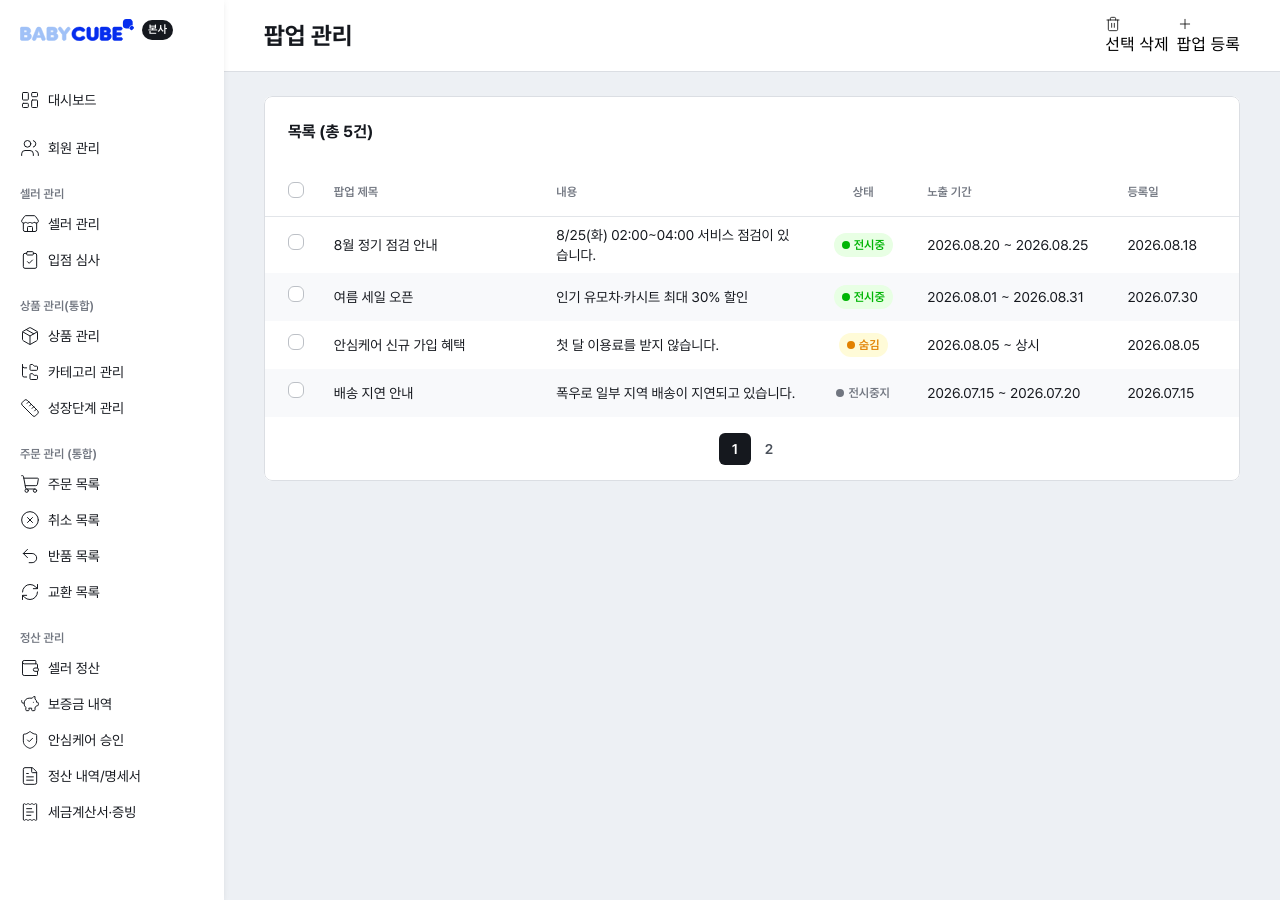
Test case: PopupListPage › 행 선택·선택 삭제 › 전체 선택은 현재 페이지의 행만 고른다
Click the checkbox named "전체 선택": x=296, y=190 top-left (288, 182), bottom-right (304, 198)
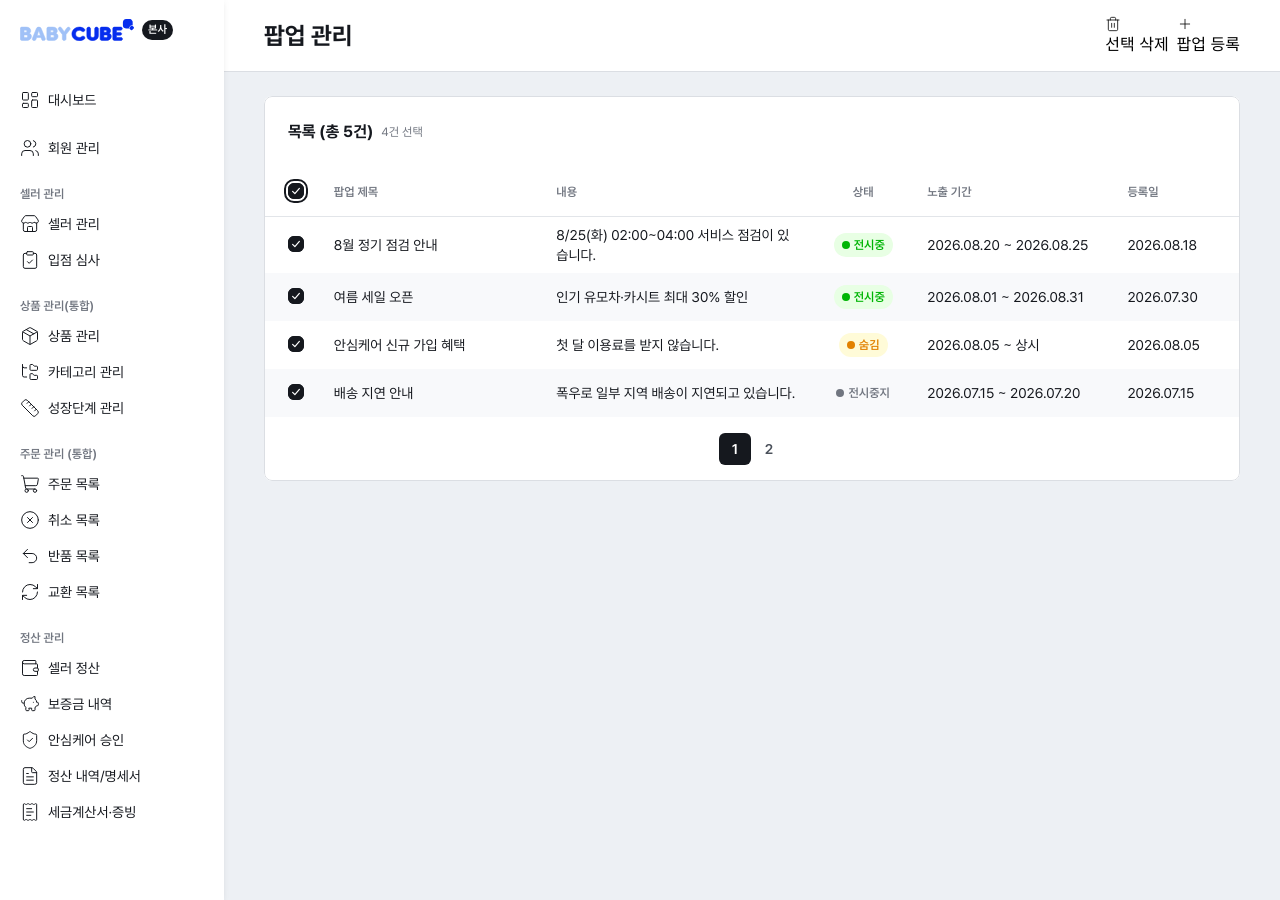
expect the text "4건 선택" is shown: met, box top-left (381, 124), bottom-right (423, 140)
